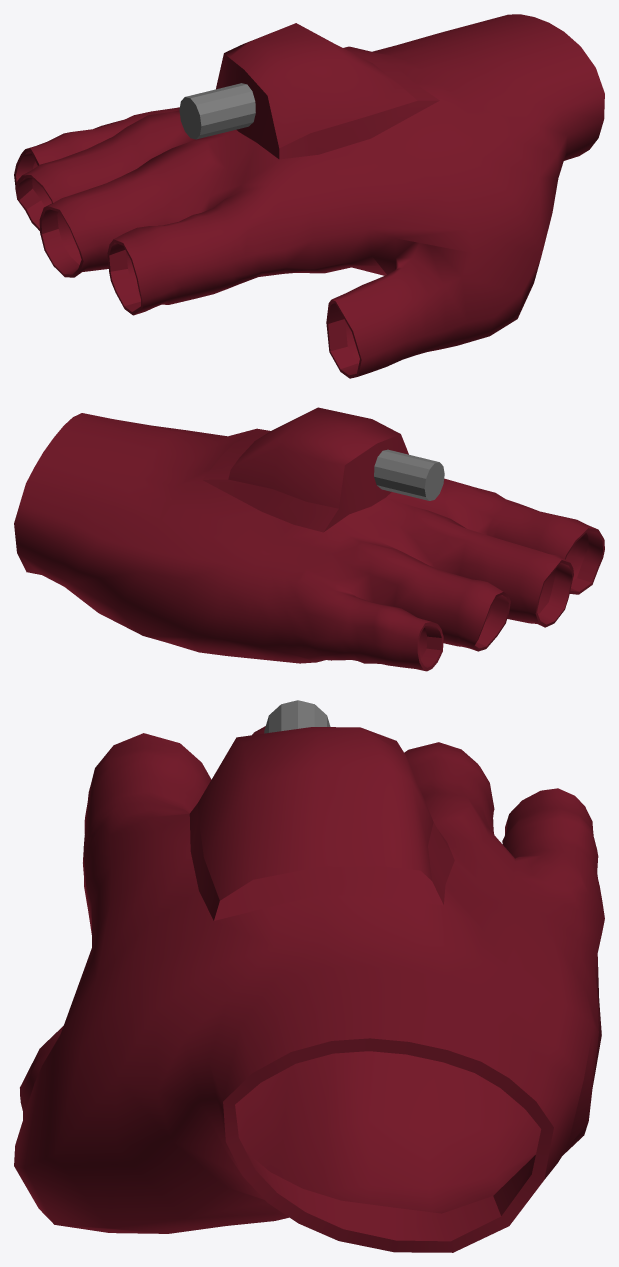
Rendered from glove.fbx.
3 renders of one model, top to bottom at view 1: azimuth 30°, elevation 25°; view 2: azimuth 150°, elevation 25°; view 3: azimuth 270°, elevation 25°, orthographic. The views are drawn at different scales.
Visible parts, largest first — view 1: polySurface2, pCylinder1; view 2: polySurface2, pCylinder1; view 3: polySurface2, pCylinder1.
Boxes of the visible parts, box(x1,y1,x2,y2) form: polySurface2: box(14, 14, 604, 378); pCylinder1: box(179, 83, 255, 139); polySurface2: box(14, 407, 604, 671); pCylinder1: box(374, 449, 444, 500); polySurface2: box(14, 726, 604, 1252); pCylinder1: box(264, 700, 330, 733).
Bounding box in the file's own units: 1.56 × 0.9943 × 0.7585.
